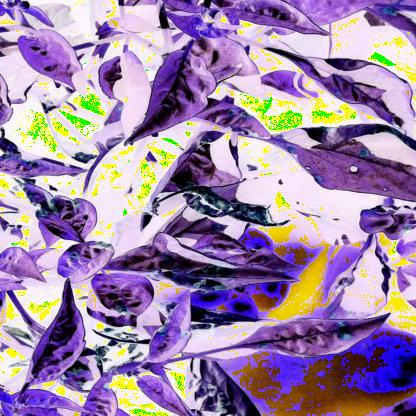bell pepper leaf spot: (166, 1, 274, 126), (316, 87, 401, 226), (68, 3, 163, 105), (243, 94, 311, 190), (245, 234, 321, 295), (125, 108, 192, 175), (199, 242, 244, 311), (320, 221, 380, 268), (361, 195, 416, 243), (274, 0, 325, 46), (392, 162, 416, 205)
